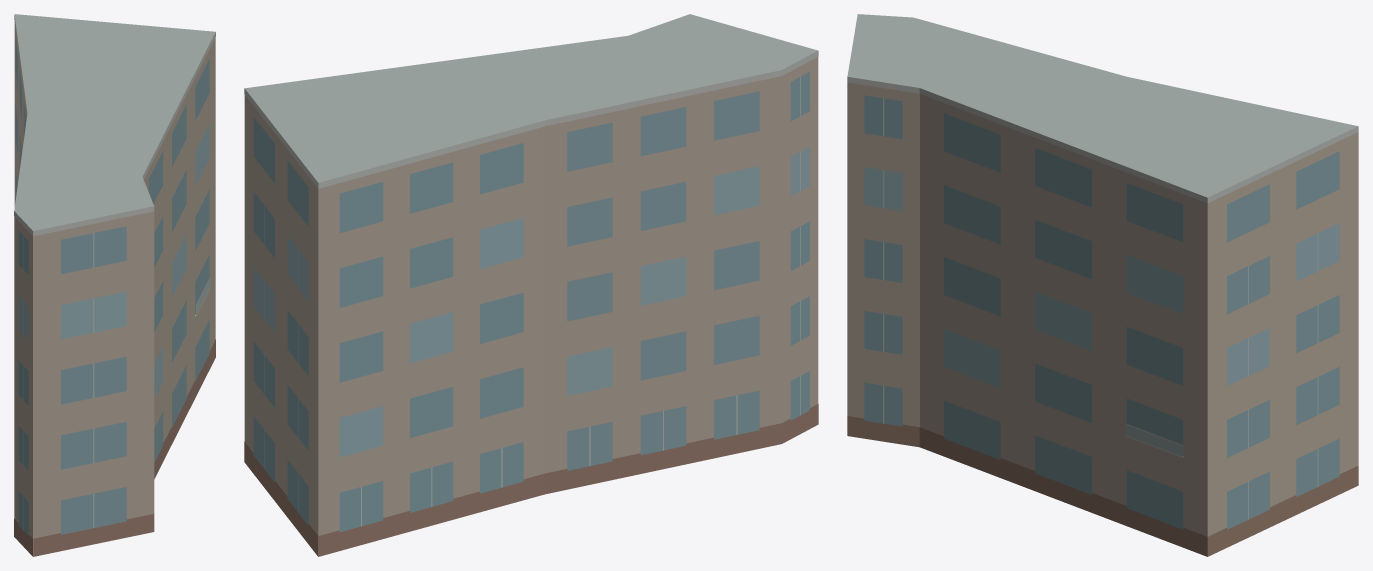
File: survey-upis-33018485.glb
3 views of the same model, side by side, from view 1: azimuth 30°, elevation 25°; view 2: azimuth 150°, elevation 25°; view 3: azimuth 270°, elevation 25° (orthographic). The views are drawn at different scales.
Visible parts, largest first — view 1: survey-upis-33018485.tmp; view 2: survey-upis-33018485.tmp; view 3: survey-upis-33018485.tmp.
Boxes of the visible parts, x1,y1,x2,y2 form: survey-upis-33018485.tmp: (14, 14, 215, 556); survey-upis-33018485.tmp: (244, 14, 818, 556); survey-upis-33018485.tmp: (847, 14, 1358, 556).
Bounding box in the file's own units: 16.73 × 15.25 × 19.68.
